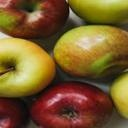apple: (1, 0, 68, 38)
